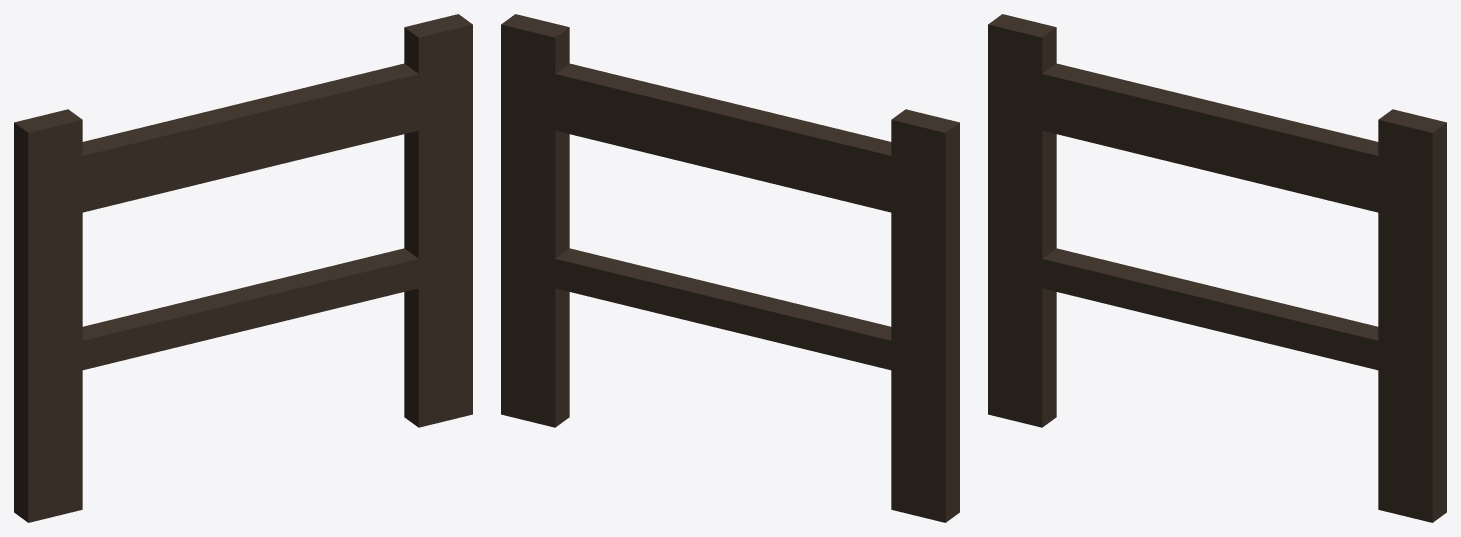
File: cercaunica.fbx
3 renders of one model, left to right at view 1: azimuth 30°, elevation 25°; view 2: azimuth 150°, elevation 25°; view 3: azimuth 330°, elevation 25°, orthographic.
Visible parts, largest first — view 1: pCube14; view 2: pCube14; view 3: pCube14.
Part boxes in pixels (x1=…): pCube14: x1=14, y1=14, x2=472, y2=522; pCube14: x1=501, y1=14, x2=959, y2=522; pCube14: x1=988, y1=14, x2=1446, y2=522.
Bounding box in the file's own units: 5.67 × 4.76 × 0.3174.
